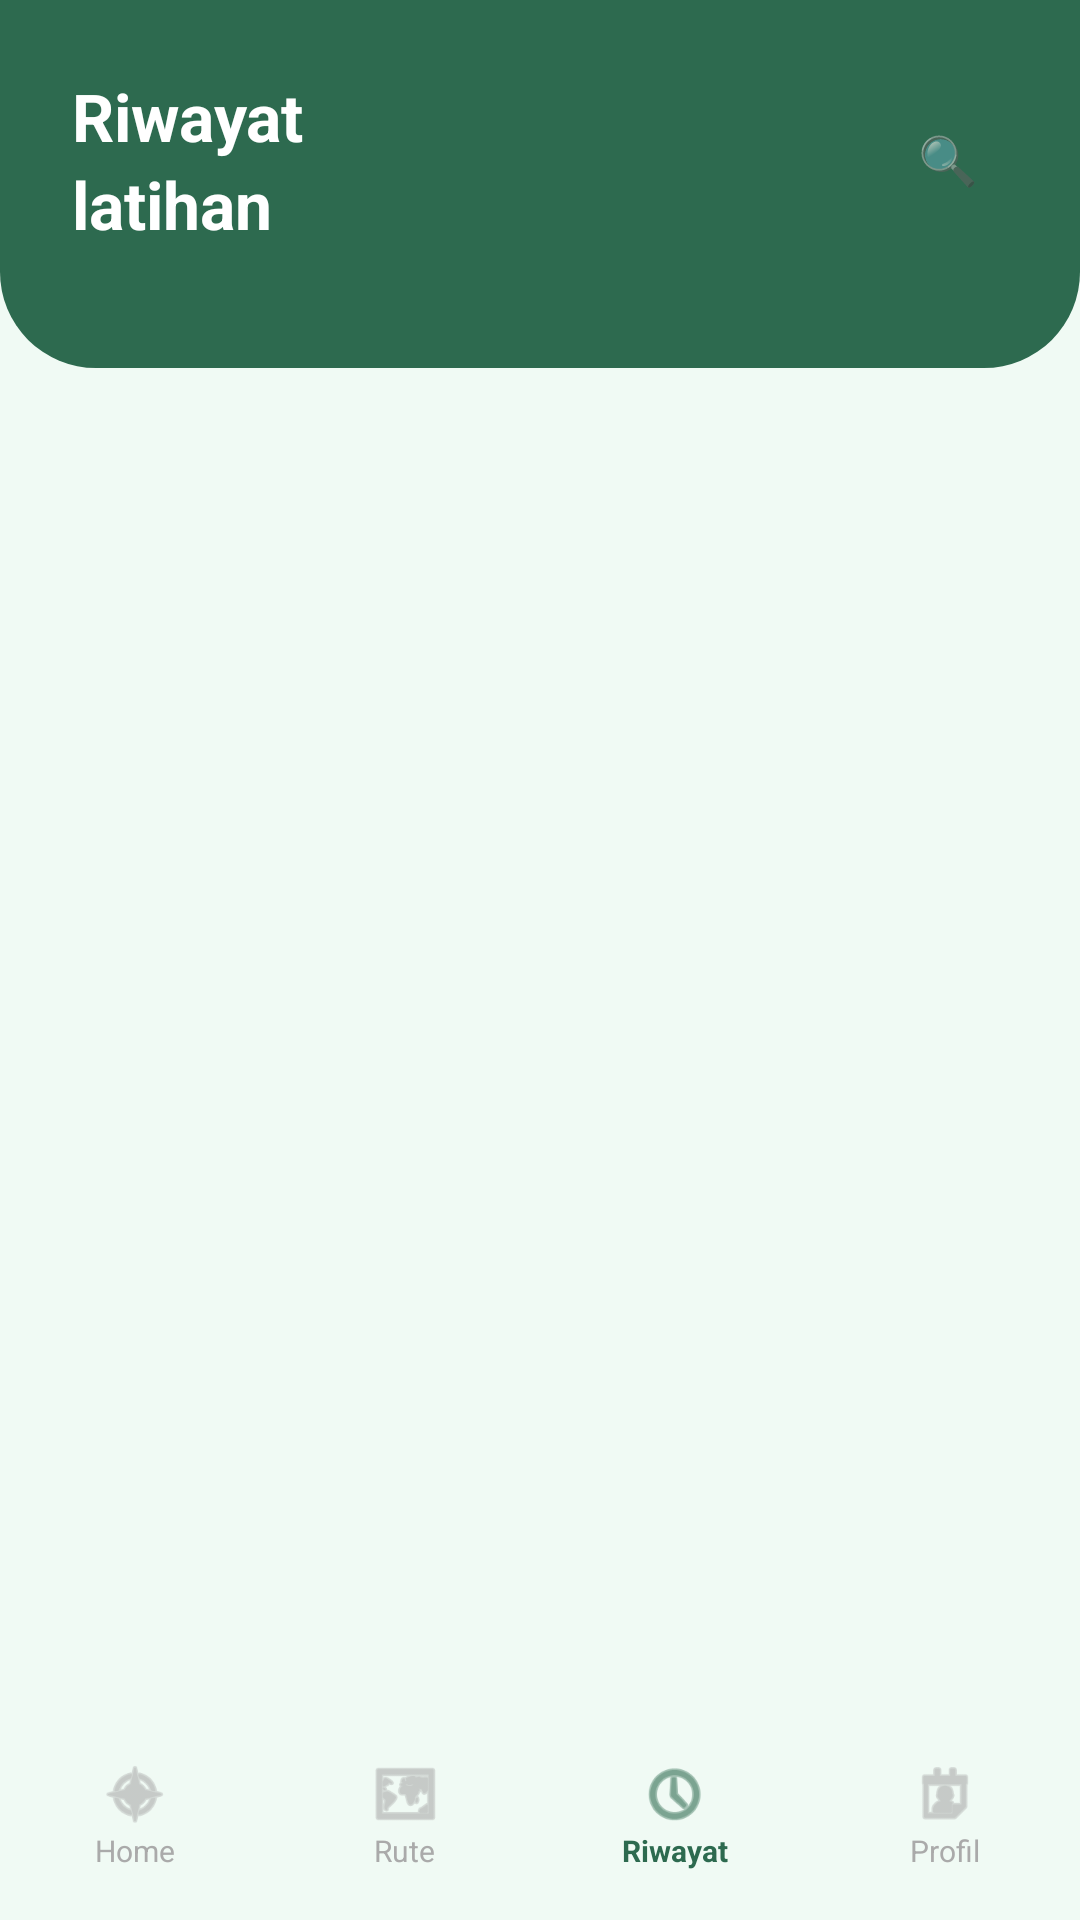

Named icons in this screenshot (1080x1920) and their centers, (x,y):
calendar: (945,1793)
compass: (135,1794)
mapmode: (405,1794)
